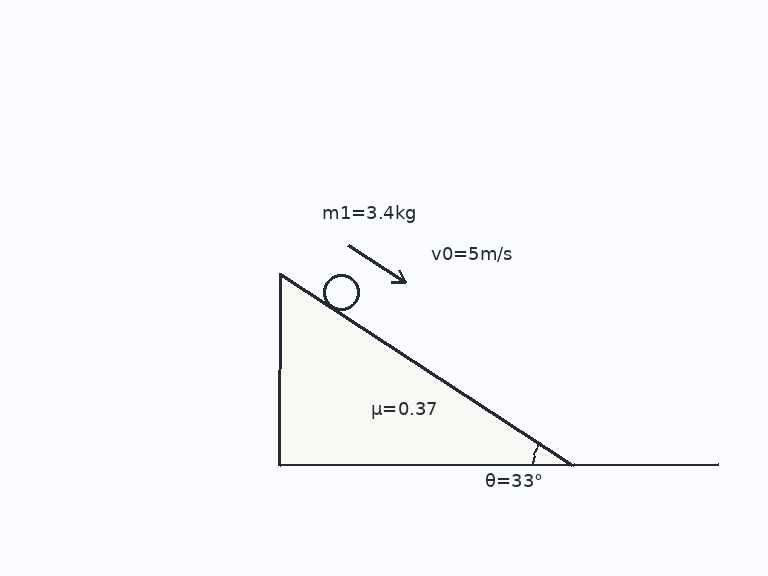ball: (321, 272, 361, 312)
ramp: (277, 271, 575, 466)
